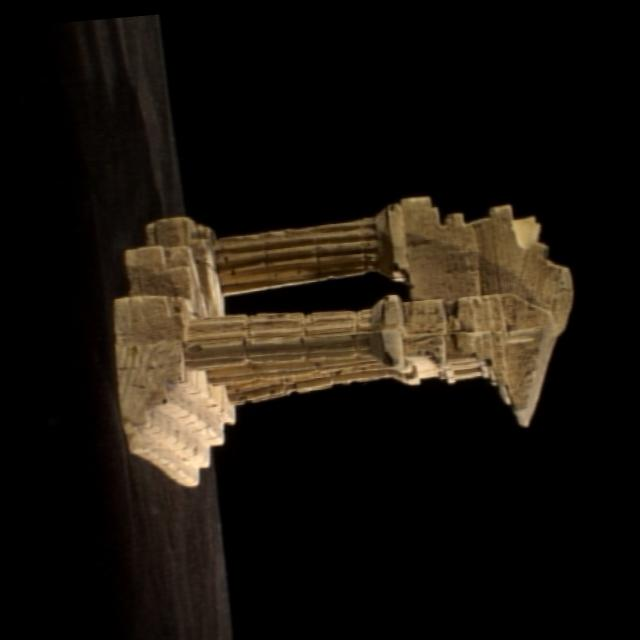Instance-Segmentation: (113, 196, 570, 484)
